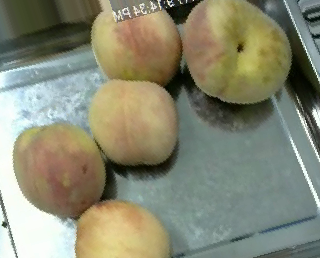Peach: (184, 0, 290, 103), (12, 122, 104, 218), (89, 78, 179, 168), (91, 3, 183, 86), (72, 198, 170, 258)
